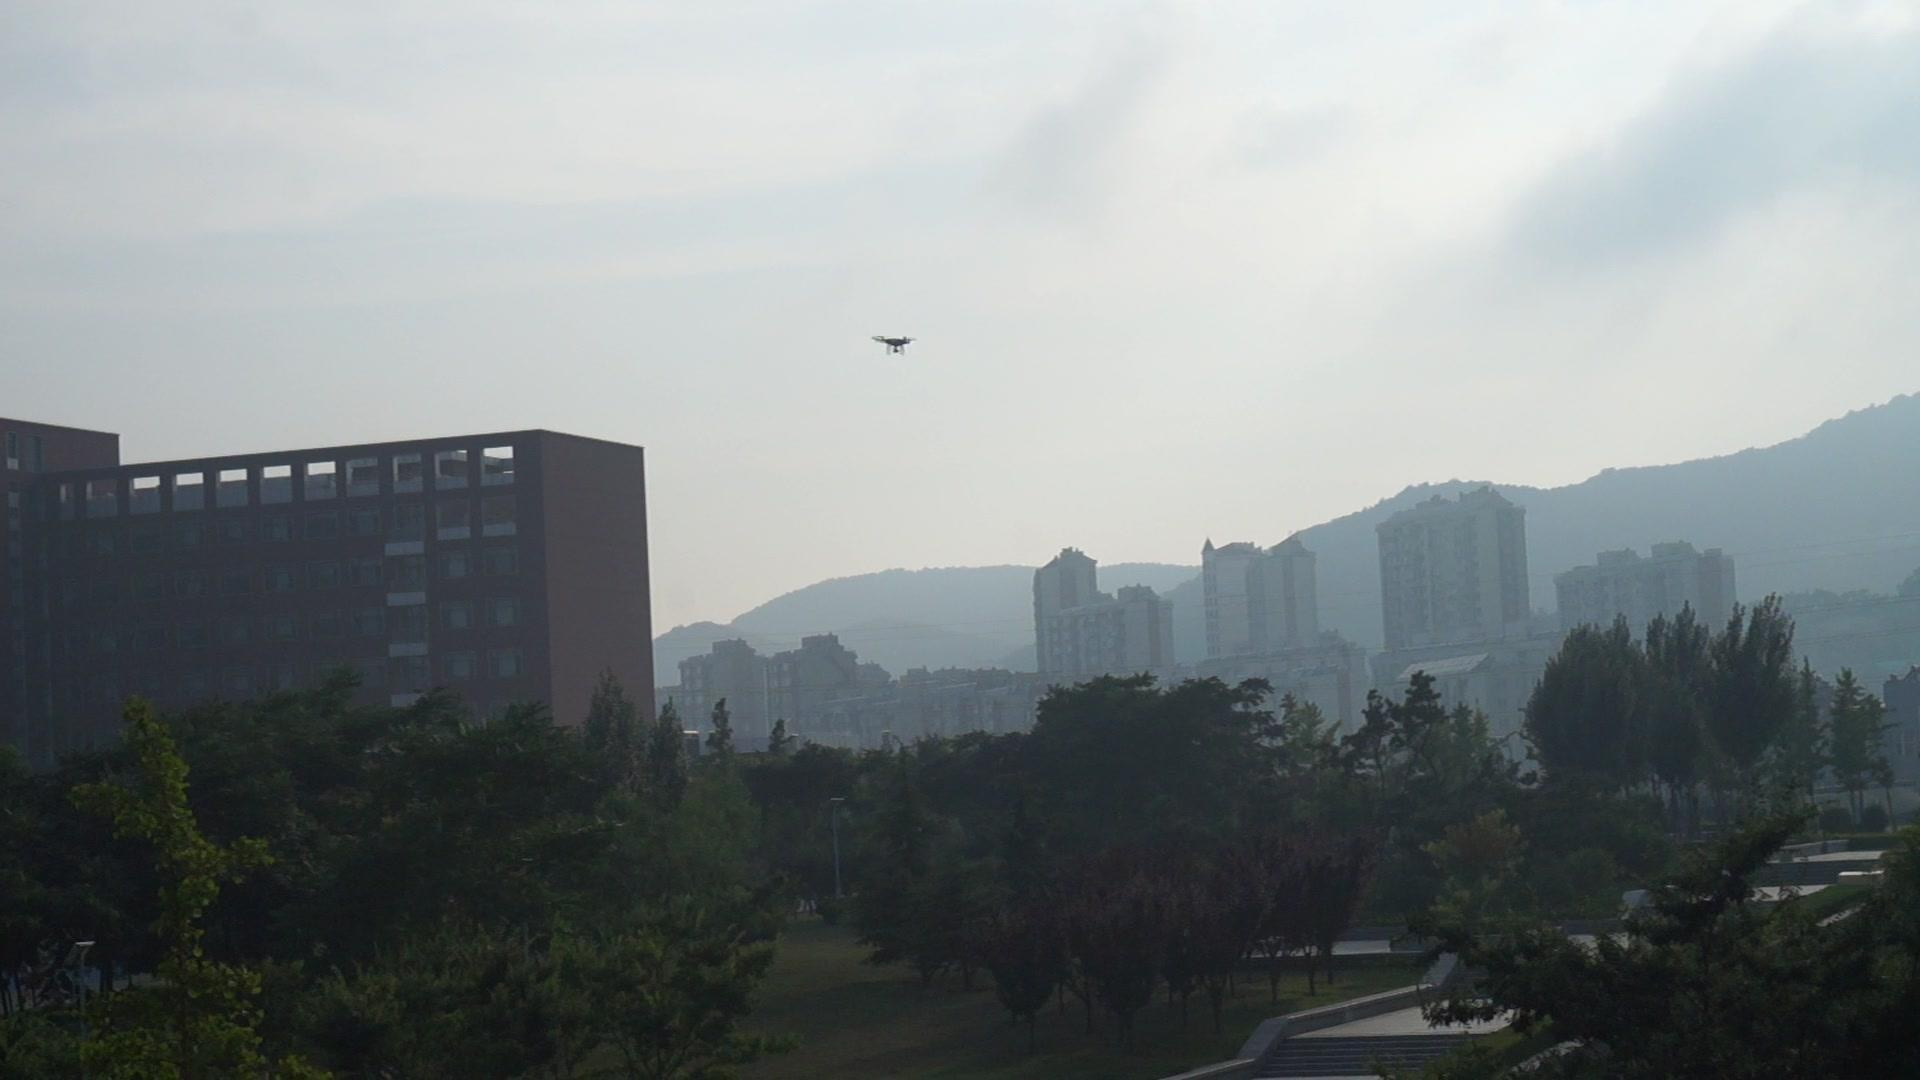UAV: (872, 336, 918, 355)
